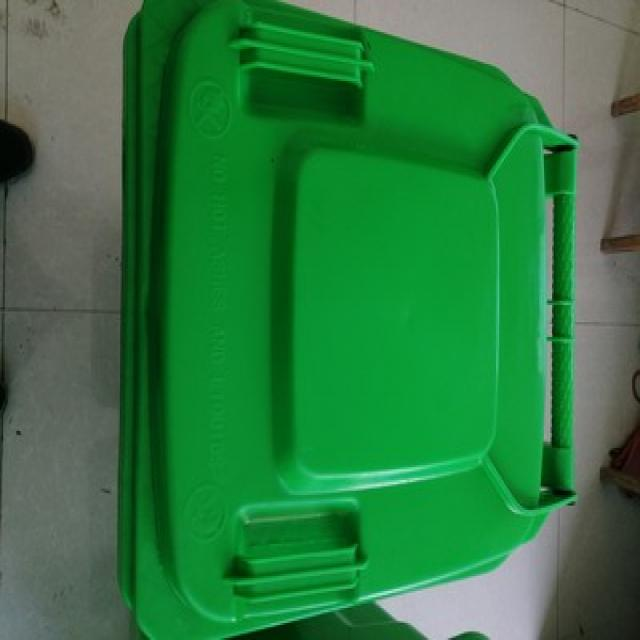ash bin: (108, 8, 578, 638)
